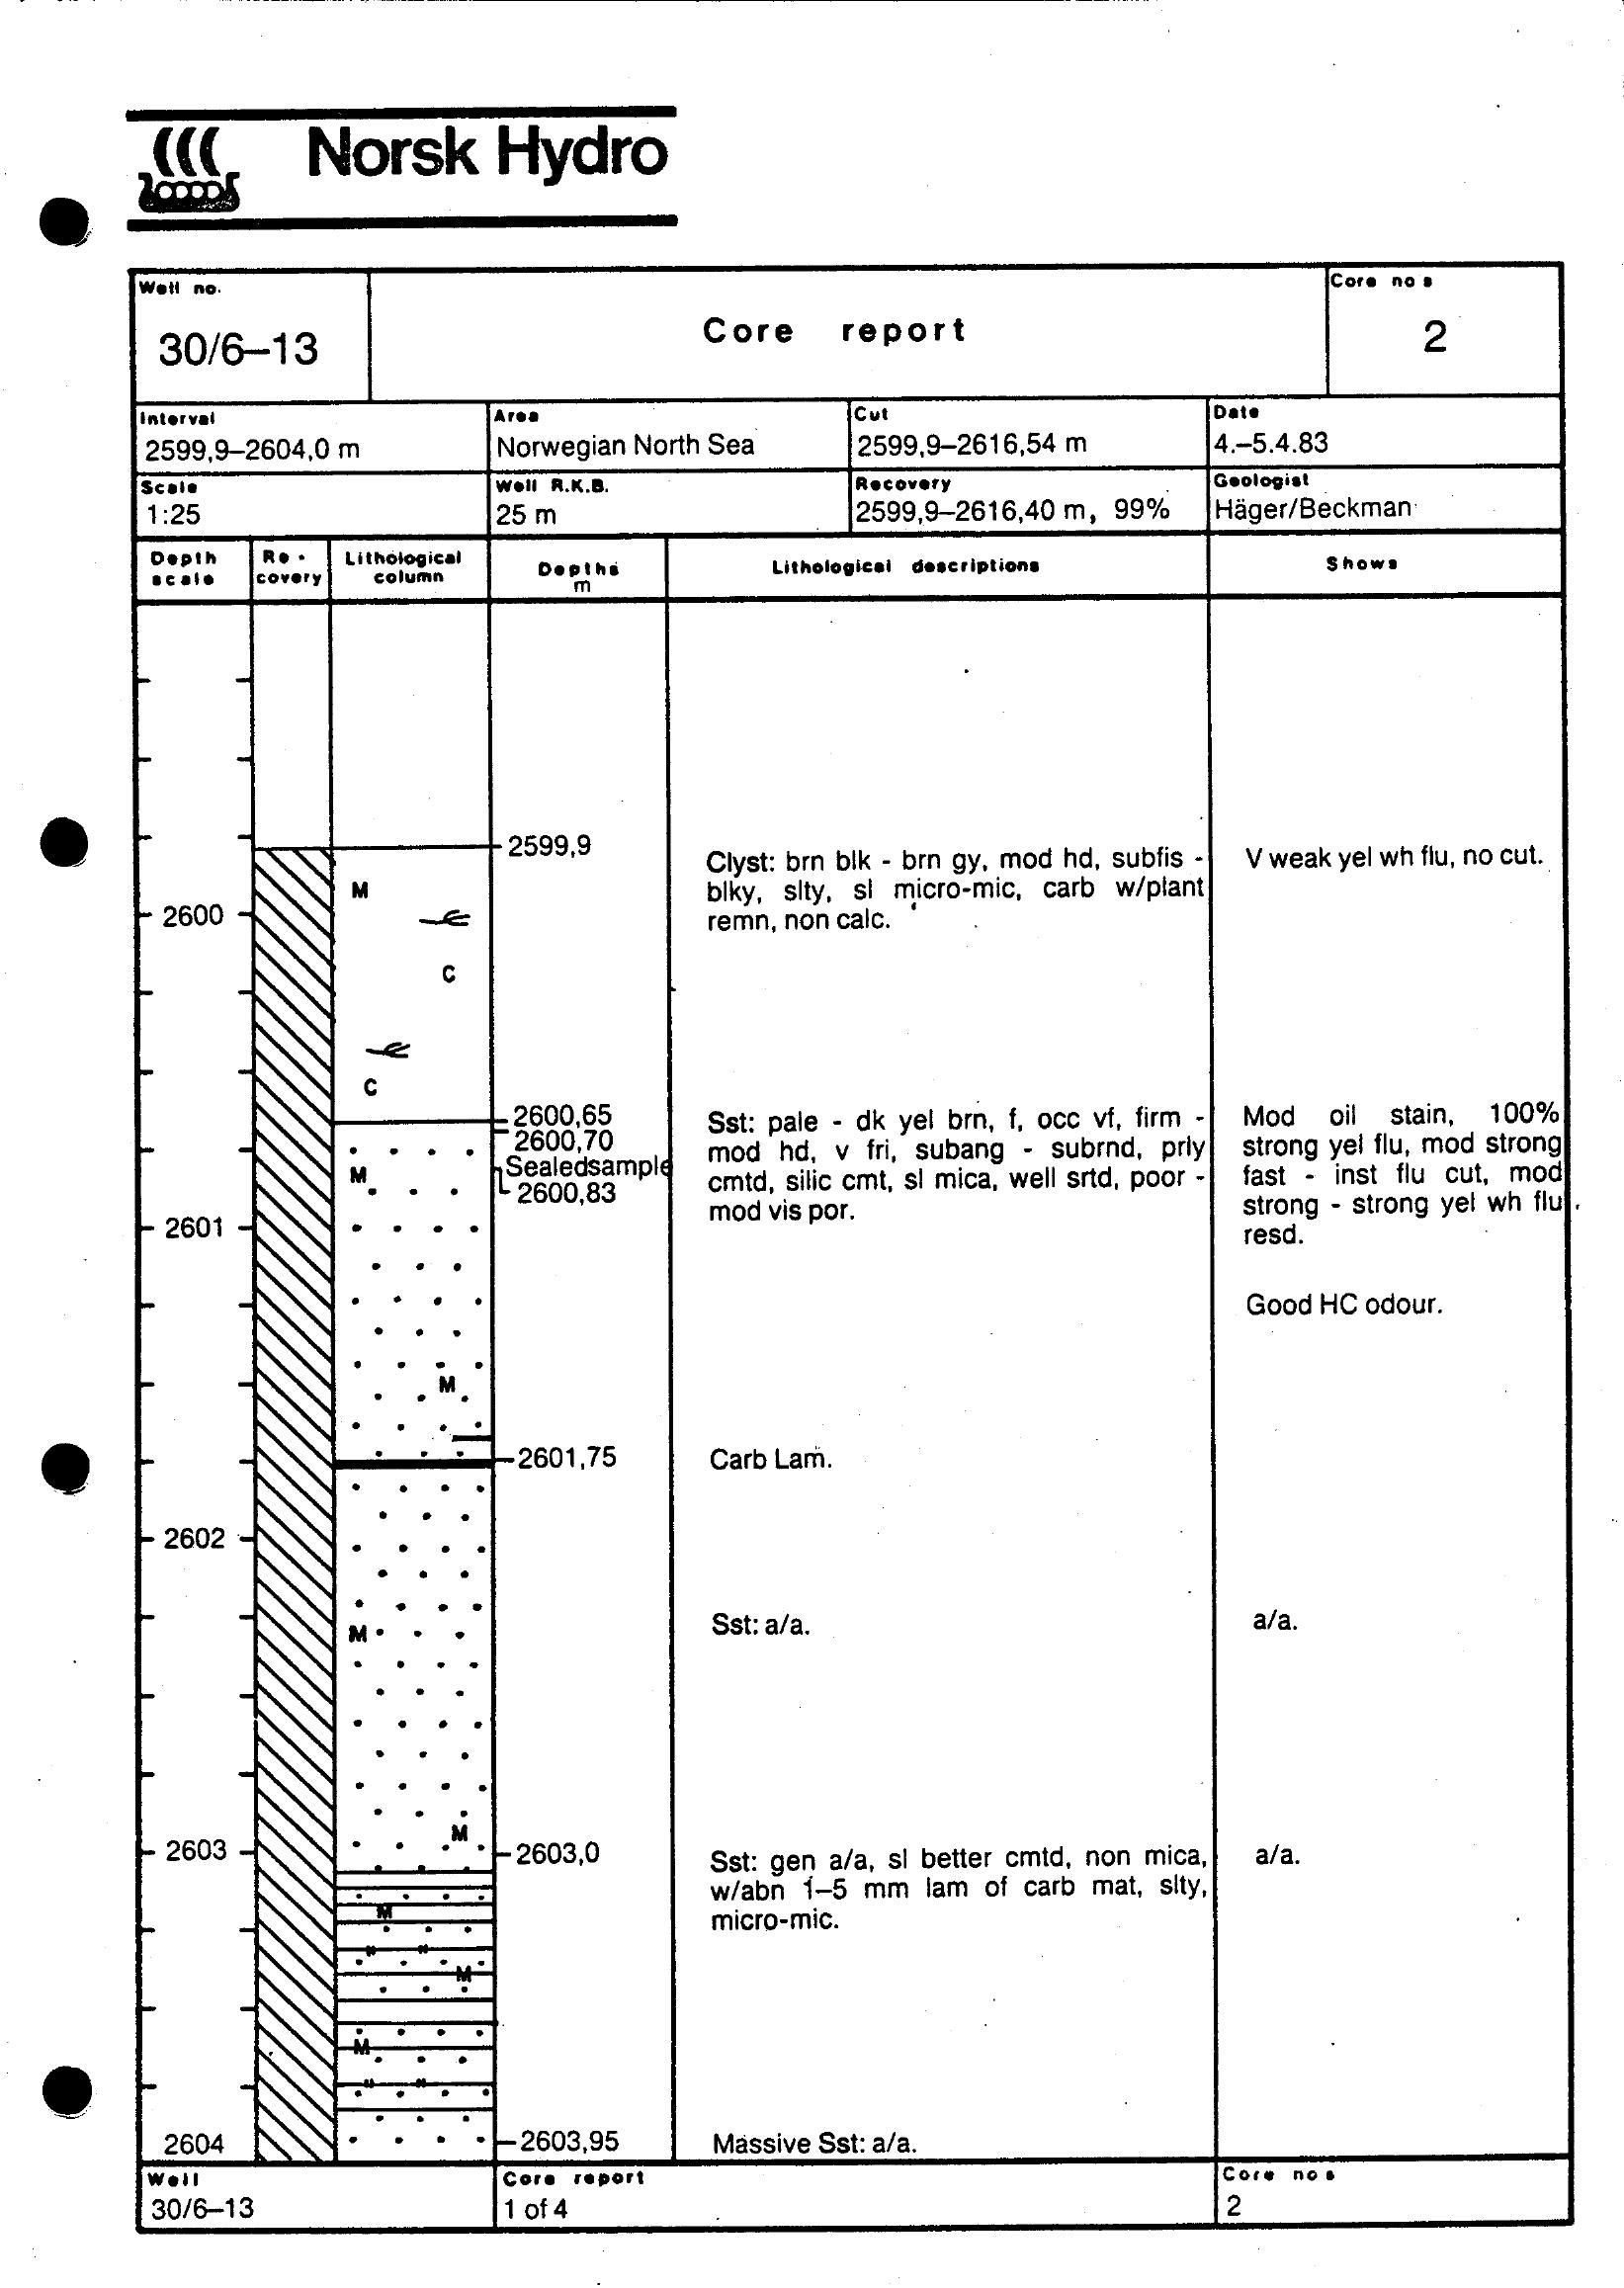graph: (112, 255, 1601, 2244)
undefined: (120, 84, 710, 237)
